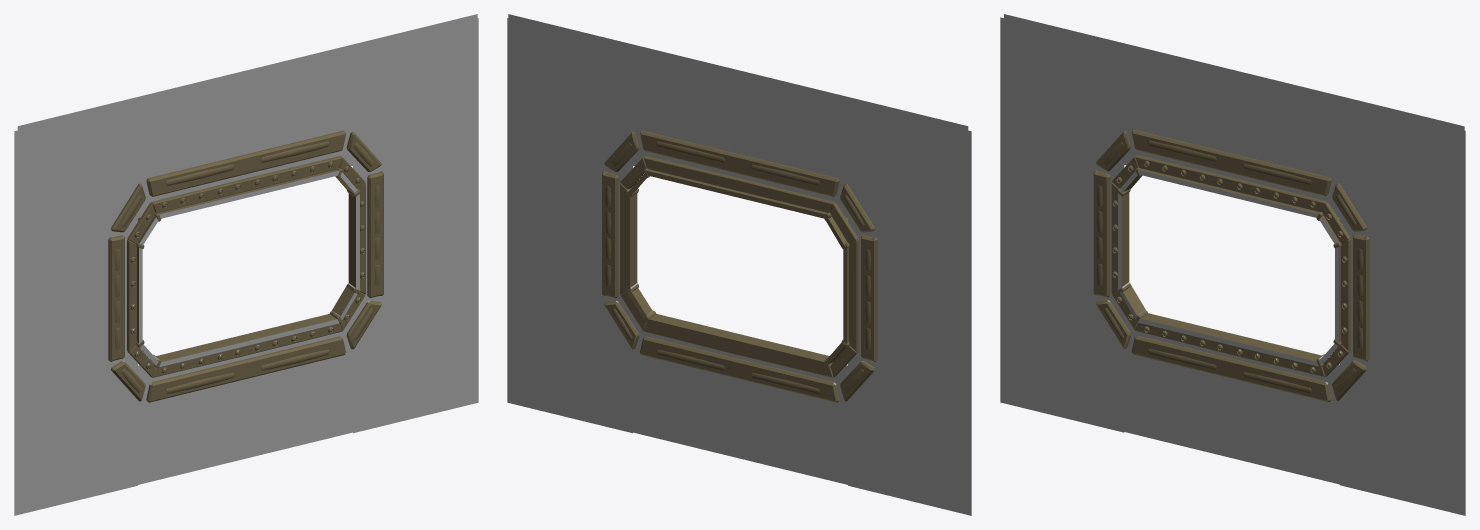
Rendered from Window_correct_Ratio_2.fbx.
3 views of the same model, side by side, from view 1: azimuth 30°, elevation 25°; view 2: azimuth 150°, elevation 25°; view 3: azimuth 330°, elevation 25° (orthographic).
Parts seen in each view (by area): view 1: polySurface169; view 2: polySurface169; view 3: polySurface169.
Part boxes in pixels (x1,y1,x2,y2): polySurface169: (14,14,478,515); polySurface169: (507,14,971,515); polySurface169: (1000,14,1465,515).
Size of the model in its own units: 36.62 by 29.29 by 1.14.
